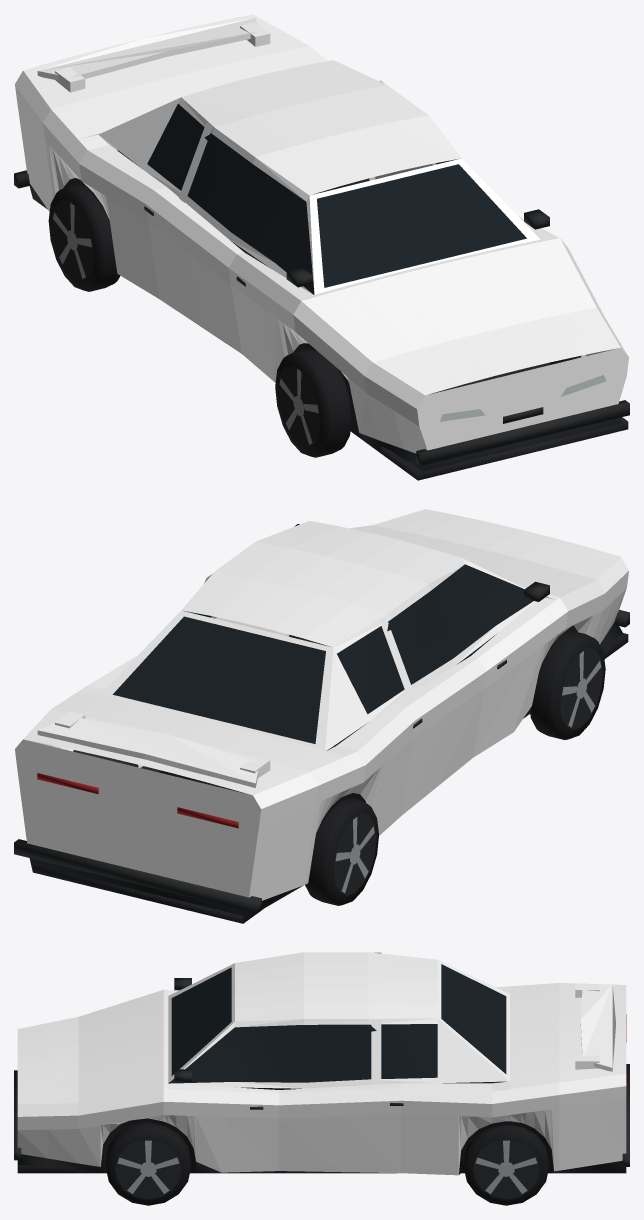
The model's file is varenna_paladio.glb.
3 views of the same model, one above another, from view 1: azimuth 30°, elevation 25°; view 2: azimuth 150°, elevation 25°; view 3: azimuth 270°, elevation 25° (orthographic). The views are drawn at different scales.
Visible parts, largest first — view 1: Body_Paint, Body_Details, Mount_FrontLeft_Wheel_Details, Mount_RearLeft_Wheel_Details; view 2: Body_Paint, Body_Details, Mount_FrontLeft_Wheel_Details, Mount_RearLeft_Wheel_Details; view 3: Body_Paint, Body_Details, Mount_FrontRight_Wheel_Details, Mount_RearRight_Wheel_Details.
Part boxes in pixels (left/top/right/bottom): Body_Paint: left=15, top=14, right=628, bottom=453; Body_Details: left=14, top=104, right=629, bottom=480; Mount_FrontLeft_Wheel_Details: left=275, top=348, right=351, bottom=457; Mount_RearLeft_Wheel_Details: left=48, top=183, right=120, bottom=291; Body_Paint: left=15, top=509, right=628, bottom=900; Body_Details: left=14, top=524, right=629, bottom=923; Mount_FrontLeft_Wheel_Details: left=529, top=630, right=605, bottom=739; Mount_RearLeft_Wheel_Details: left=305, top=798, right=378, bottom=905; Body_Paint: left=17, top=952, right=626, bottom=1175; Body_Details: left=14, top=964, right=629, bottom=1174; Mount_FrontRight_Wheel_Details: left=105, top=1122, right=191, bottom=1205; Mount_RearRight_Wheel_Details: left=463, top=1125, right=549, bottom=1205.
Size of the model in its own units: 1.92 by 1.38 by 4.53.
2 materials, 1 textured.
